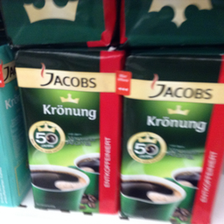coffee: (11, 49, 120, 213), (121, 55, 223, 224)
